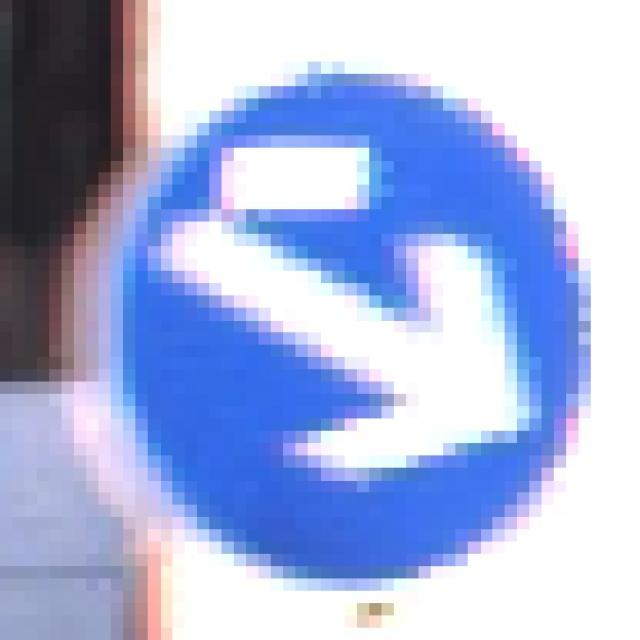Keep-Right: (86, 62, 603, 590)
